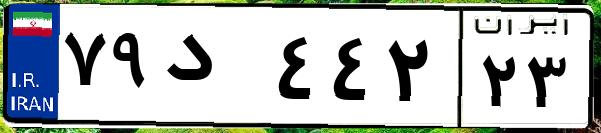2: (385, 28, 445, 110), (475, 38, 525, 113)
3: (525, 38, 570, 115)
4: (270, 28, 330, 110), (330, 28, 385, 110)
7: (57, 26, 110, 100)
9: (110, 28, 158, 98)
د: (158, 20, 270, 120)
